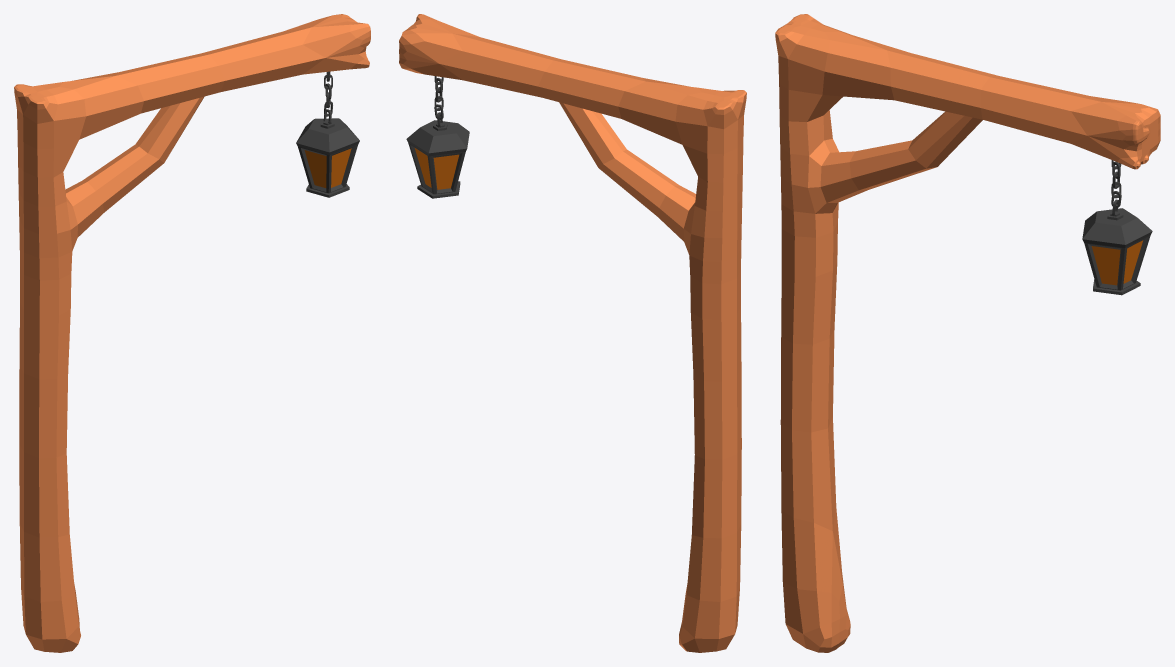
The model's file is Light.fbx.
The picture shows the model from 3 angles, left to right: view 1: azimuth 30°, elevation 25°; view 2: azimuth 150°, elevation 25°; view 3: azimuth 330°, elevation 25°; orthographic projection. The views are drawn at different scales.
Parts seen in each view (by area): view 1: Light_LOD0; view 2: Light_LOD0; view 3: Light_LOD0.
Boxes of the visible parts, x1,y1,x2,y2 form: Light_LOD0: (14, 14, 370, 652); Light_LOD0: (399, 14, 746, 652); Light_LOD0: (775, 14, 1160, 652).
Size of what is drawn, in the model's own units: 2.61 by 0.4425 by 4.2.
